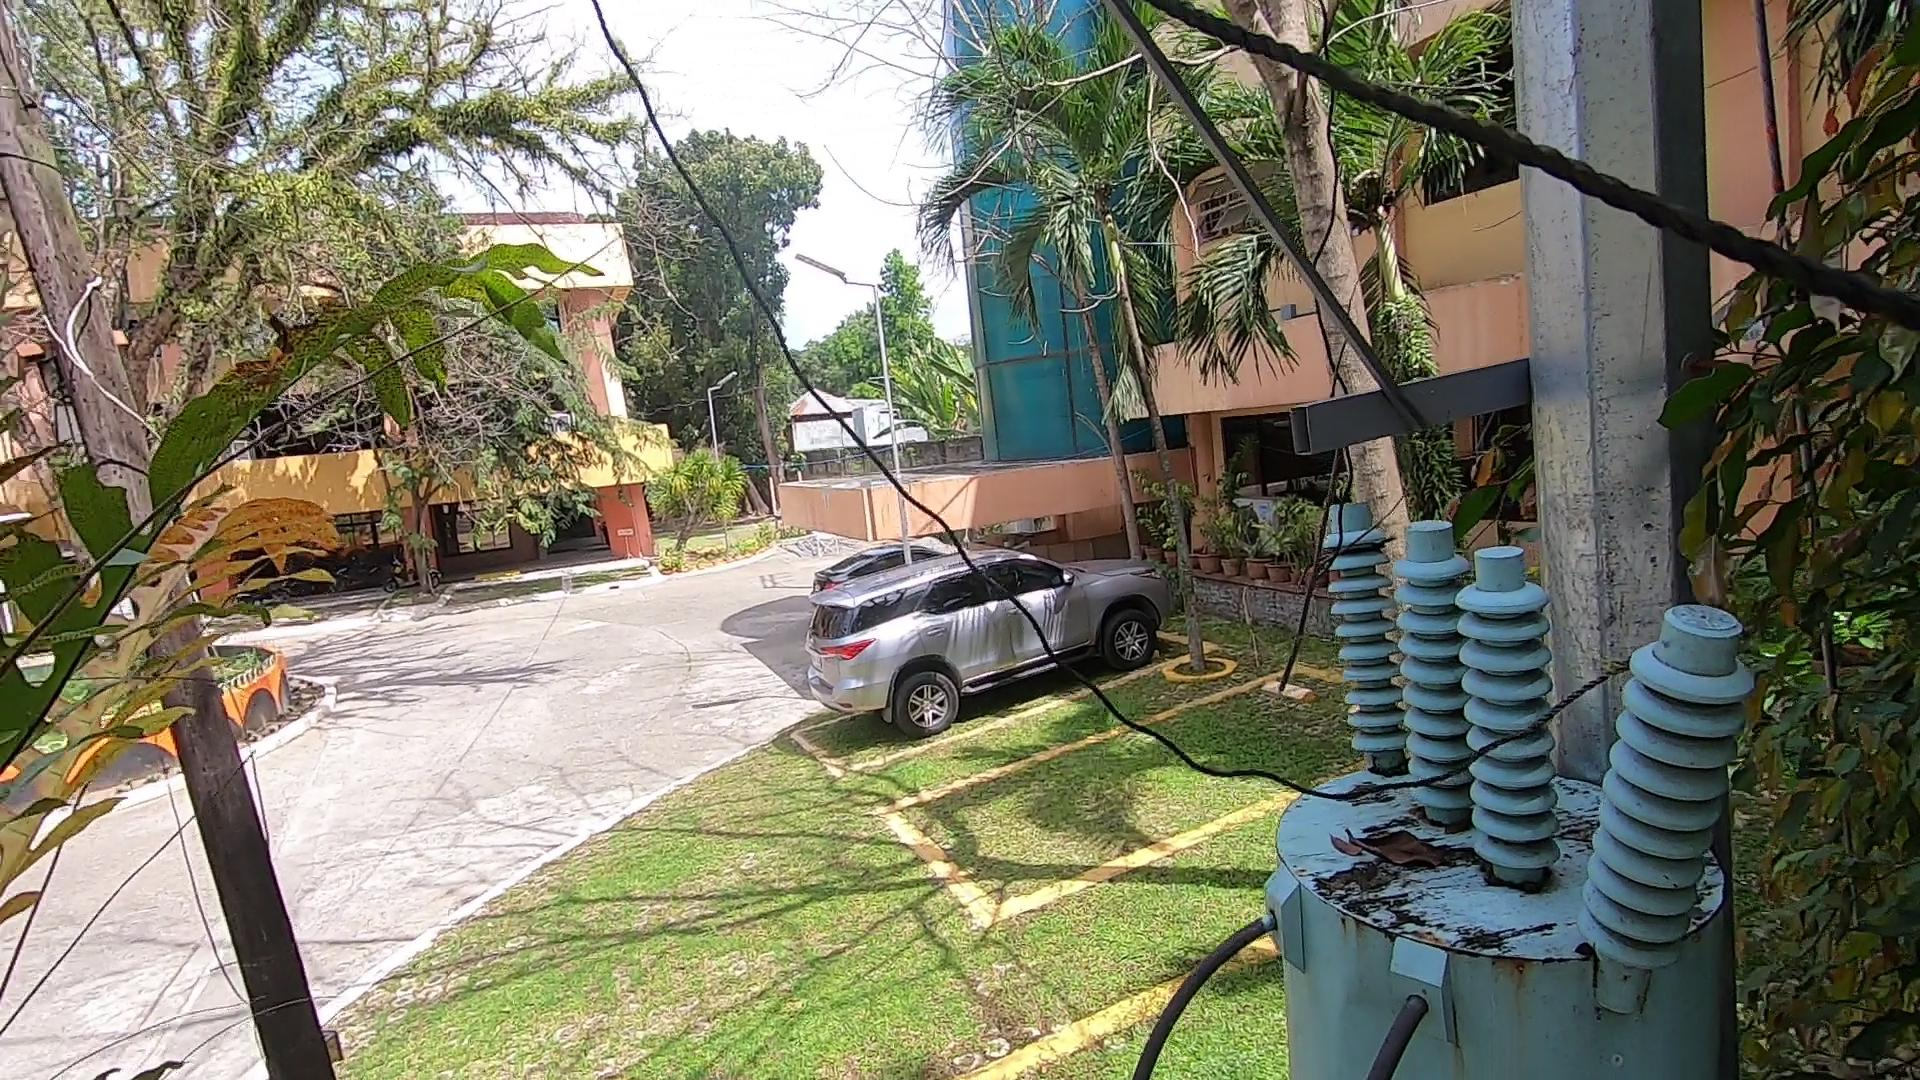leaf: (1324, 804, 1465, 889), (1345, 746, 1414, 787)
tree branch: (1270, 243, 1390, 700)
